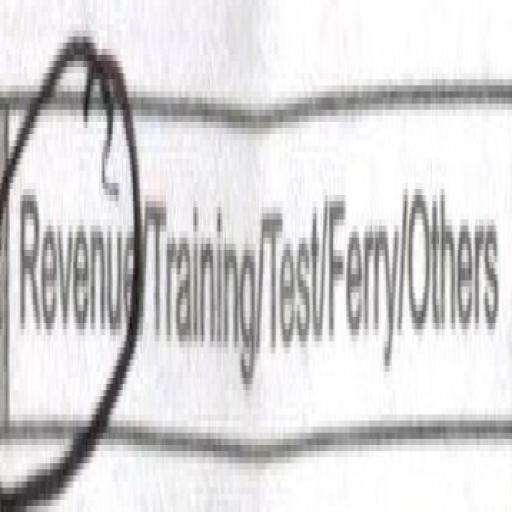check: (0, 0, 143, 510)
